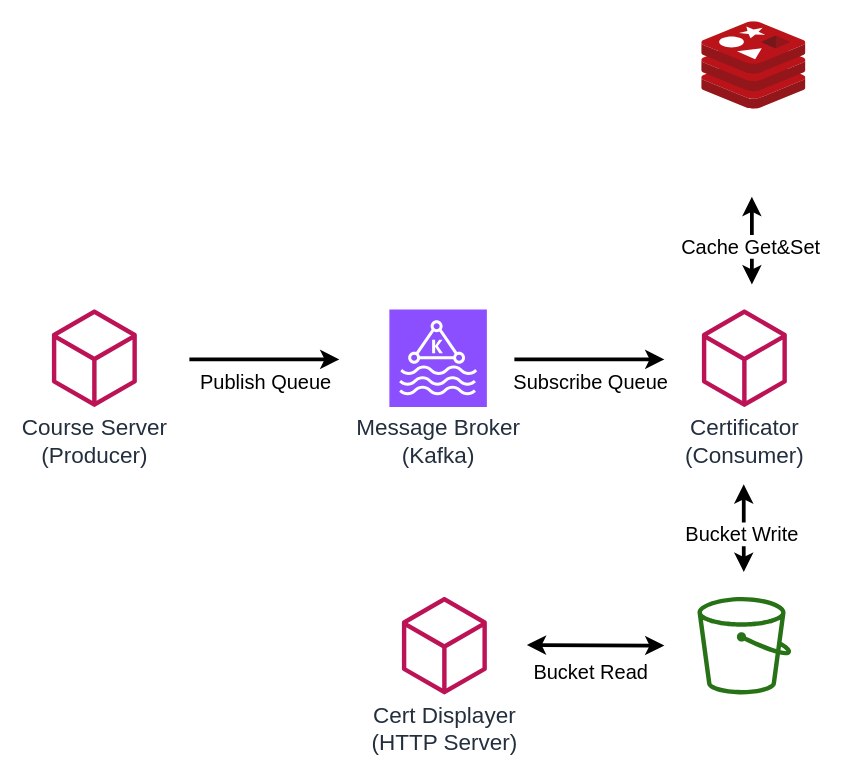
Some shapes in this 856 by 778 pixel diagram are drawn without their labels. The box of each missing label's shape, as (x1, y1, x2, y2) in pixels:
Common Cache (Redis): (701, 21, 805, 109)
MinIO Bucket Storage: (697, 596, 791, 694)
